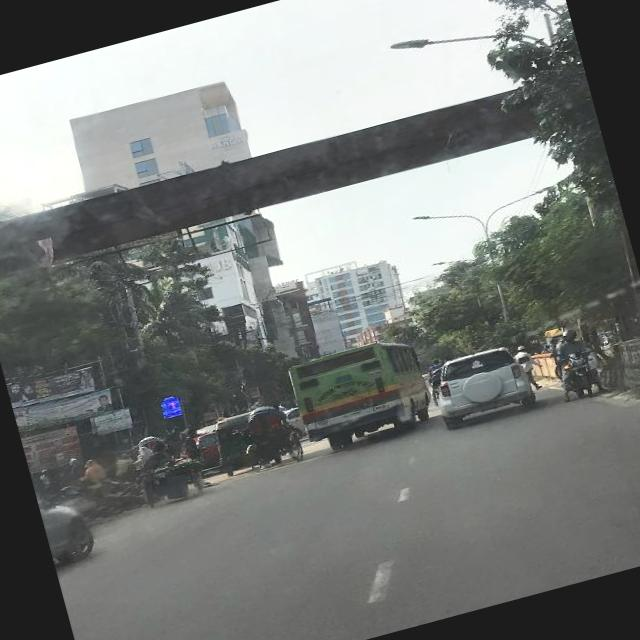bus: (282, 331, 436, 458)
car: (427, 340, 534, 431)
motorcycle: (238, 398, 306, 470), (550, 342, 610, 405), (206, 414, 253, 479), (42, 457, 88, 501)
